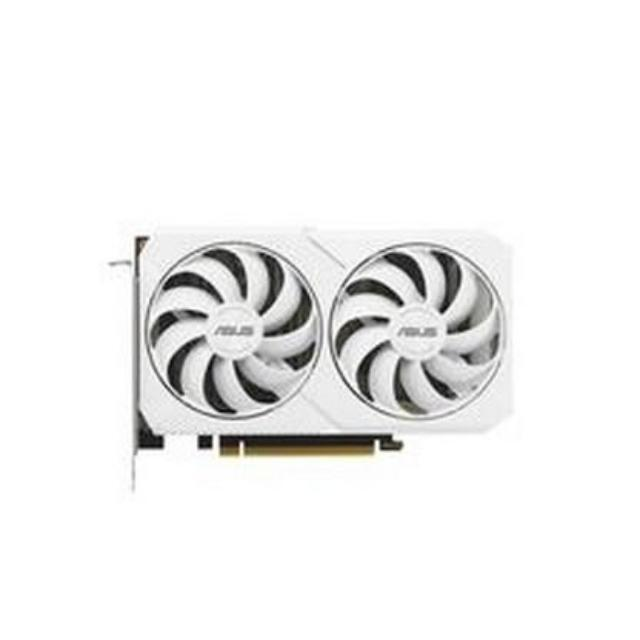GPU: (127, 228, 533, 460)
